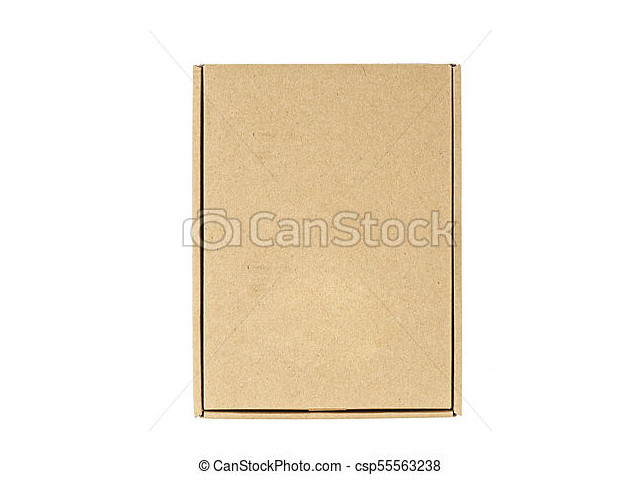cardboard: (196, 65, 459, 415)
